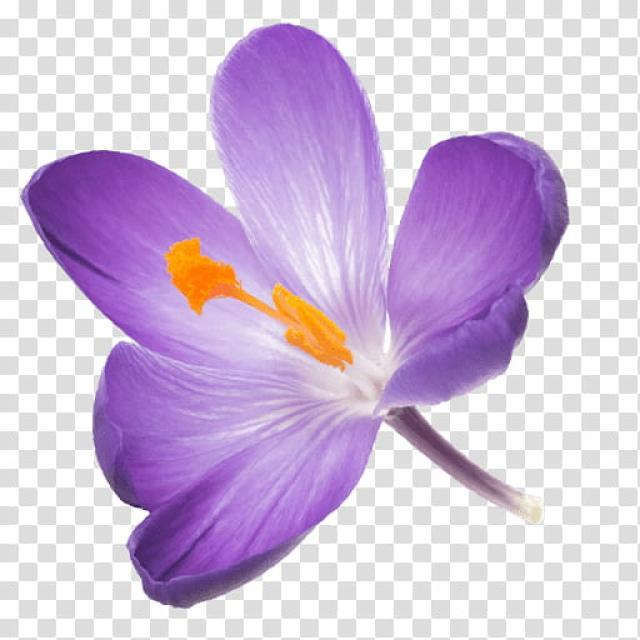Flower: (89, 160, 525, 542)
